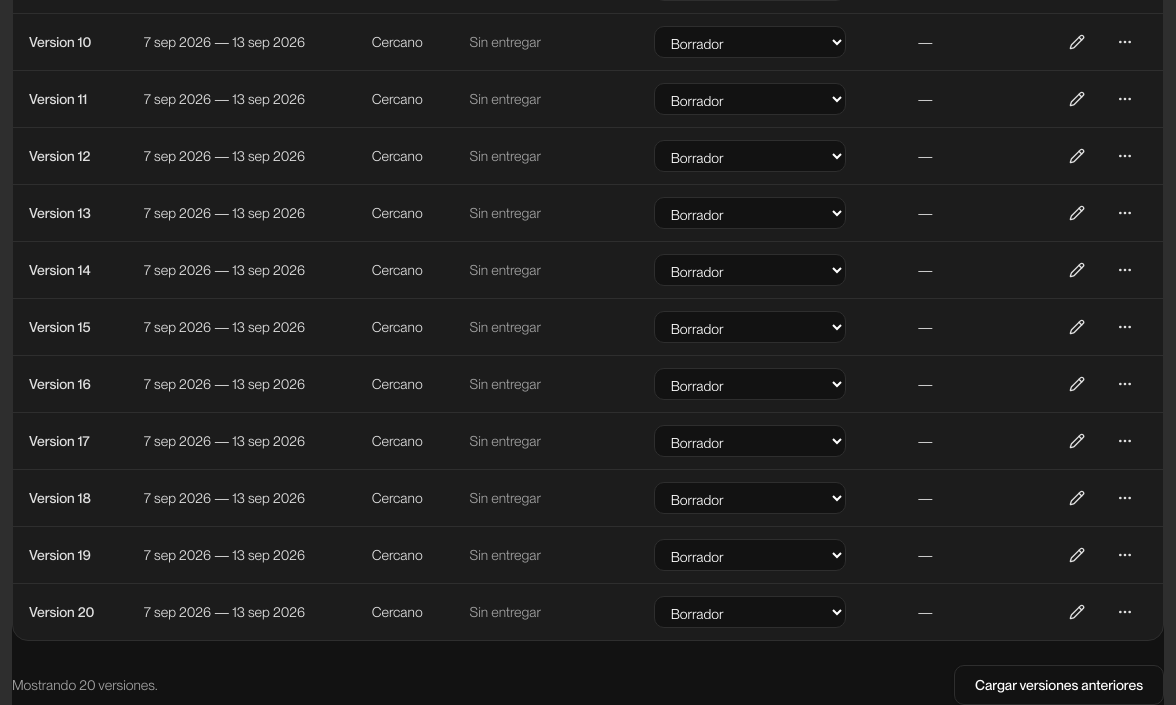
it: a failed next page keeps loaded history and offers retry
This screenshot has width=1176, height=705.
(page scrolled)
Click the button "Cargar versiones anteriores": [1059, 684] box top-left (954, 664), bottom-right (1164, 704)
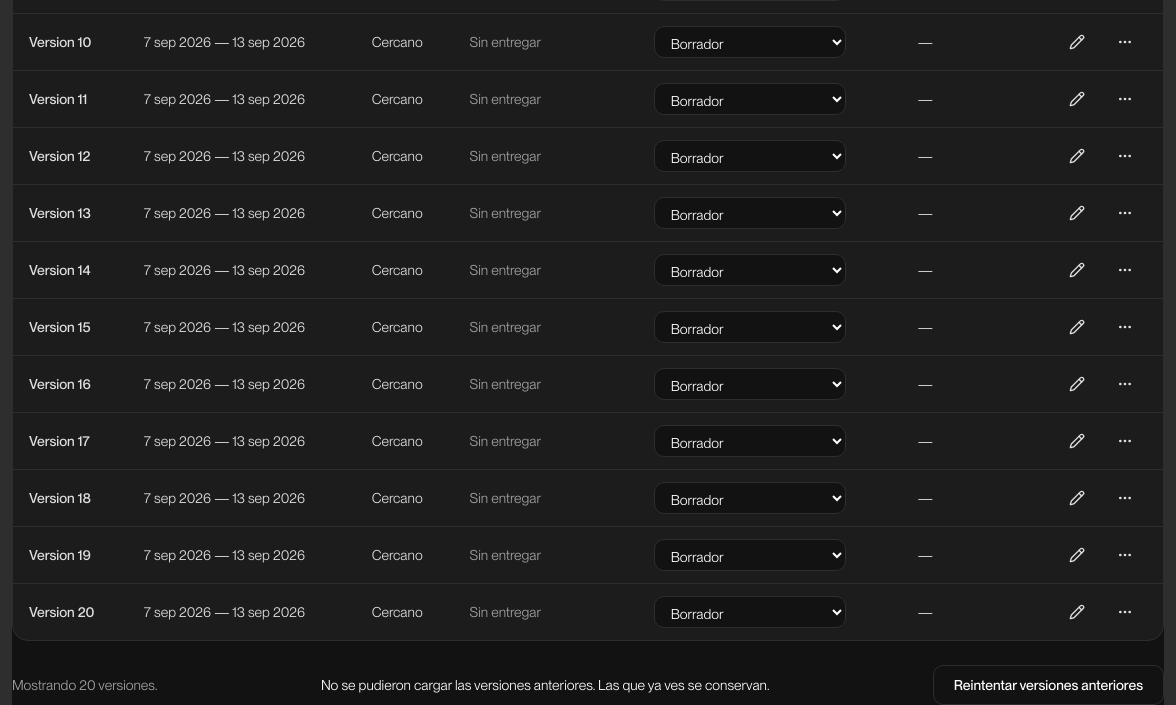
Click the button "Reintentar versiones anteriores": [1048, 684] box top-left (933, 664), bottom-right (1164, 704)
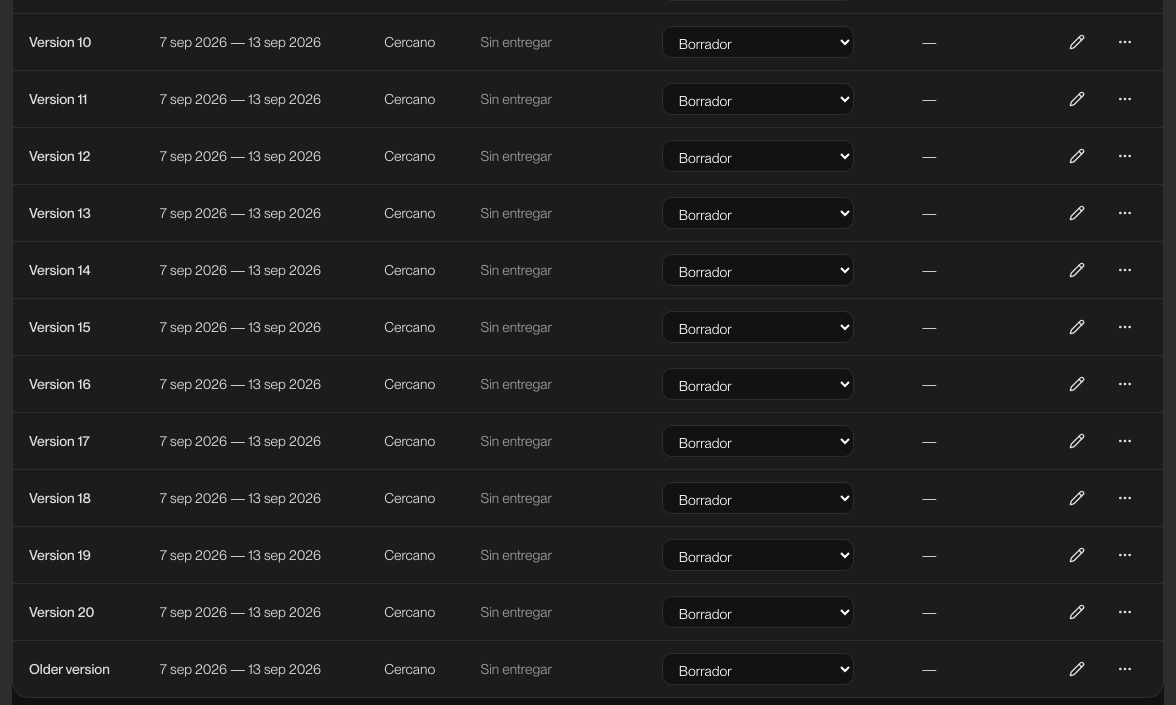
Check: the link "Older version" is shown, box top-left (29, 660), bottom-right (110, 676)
